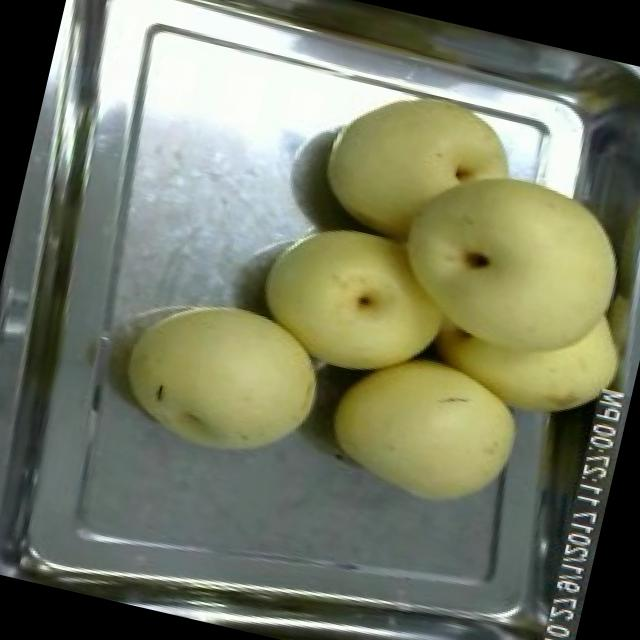Fruit: (352, 138, 640, 449), (102, 274, 342, 481), (310, 320, 546, 528), (240, 200, 470, 403), (305, 72, 535, 265)
